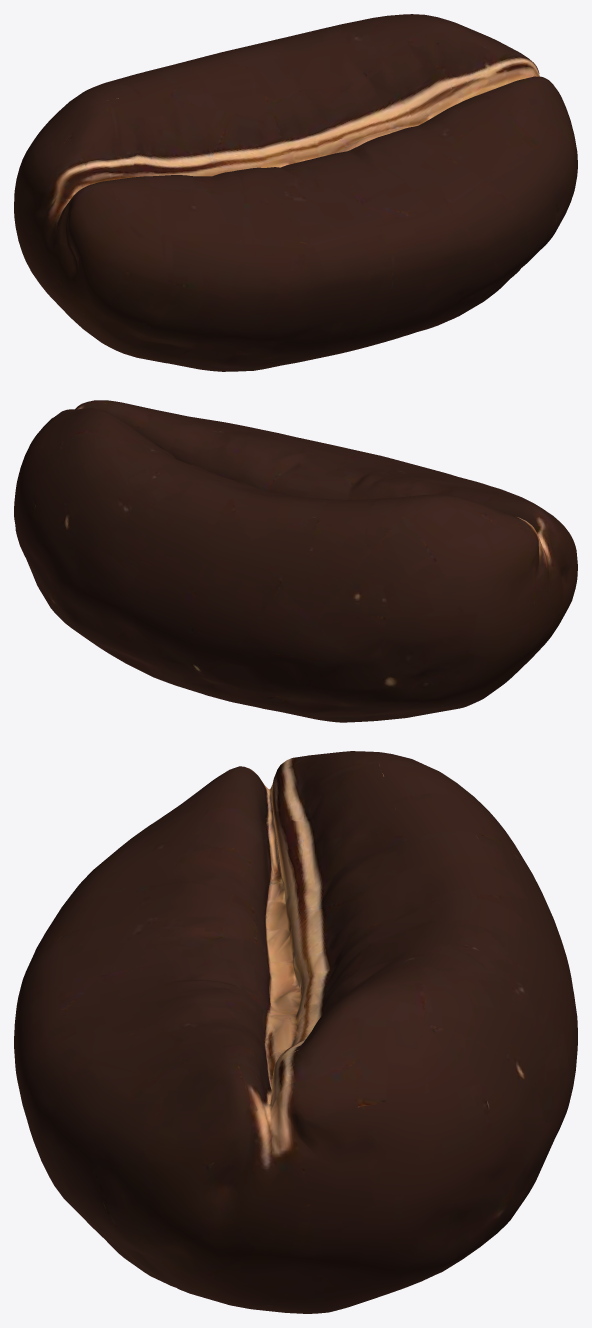
The model's file is bean4.glb.
3 views of the same model, one above another, from view 1: azimuth 30°, elevation 25°; view 2: azimuth 150°, elevation 25°; view 3: azimuth 270°, elevation 25° (orthographic). The views are drawn at different scales.
Size of the model in its own units: 1.9 by 0.9145 by 1.29.
Materials: 1 (1 with a texture image).
